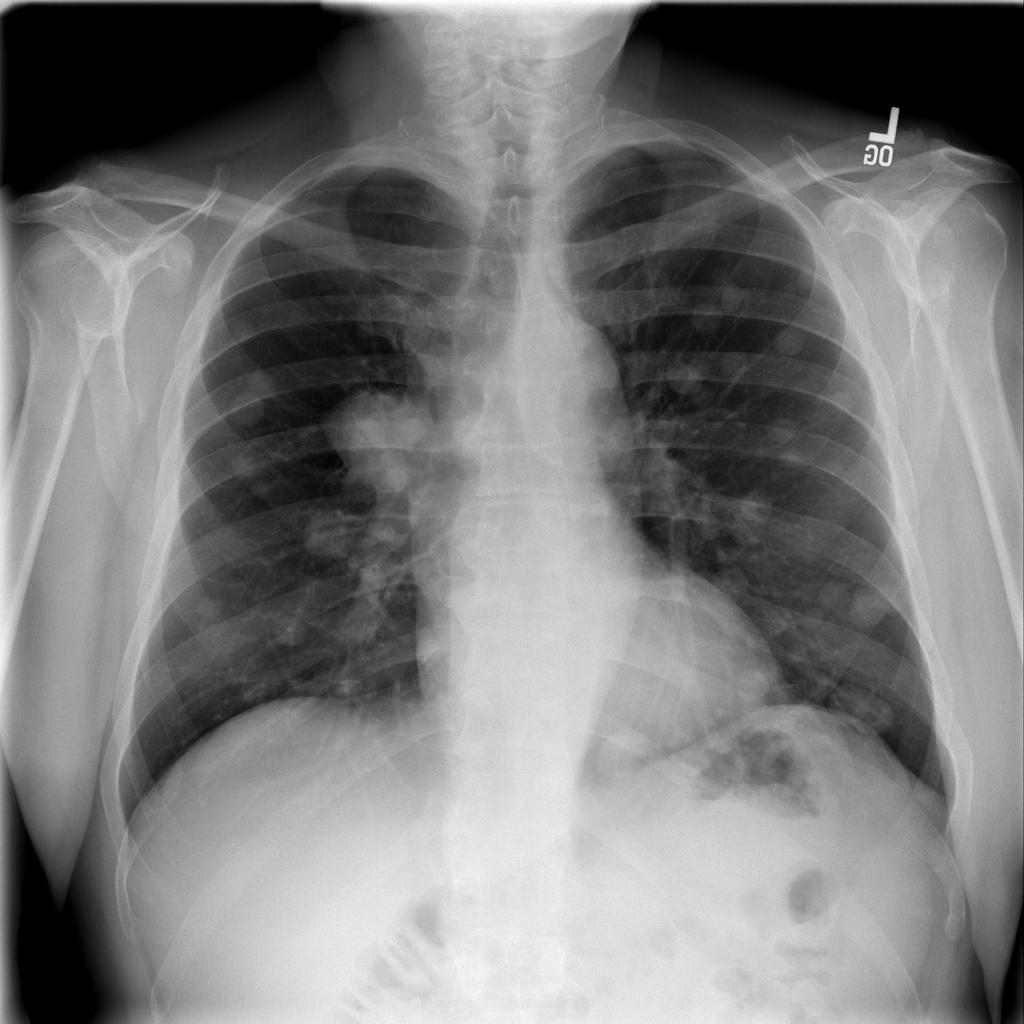nodule: (806, 565, 889, 642), (291, 502, 376, 570), (585, 715, 666, 785), (826, 677, 906, 745), (690, 246, 762, 318), (688, 554, 764, 621), (717, 479, 785, 552), (216, 369, 288, 437), (680, 266, 747, 337), (262, 601, 317, 653), (724, 662, 780, 713), (659, 352, 712, 405), (766, 314, 818, 366), (754, 408, 811, 455), (215, 307, 269, 356), (226, 455, 282, 502), (811, 380, 866, 426), (232, 666, 283, 715), (186, 583, 238, 631), (216, 442, 270, 488), (780, 254, 830, 303), (803, 447, 859, 489)
